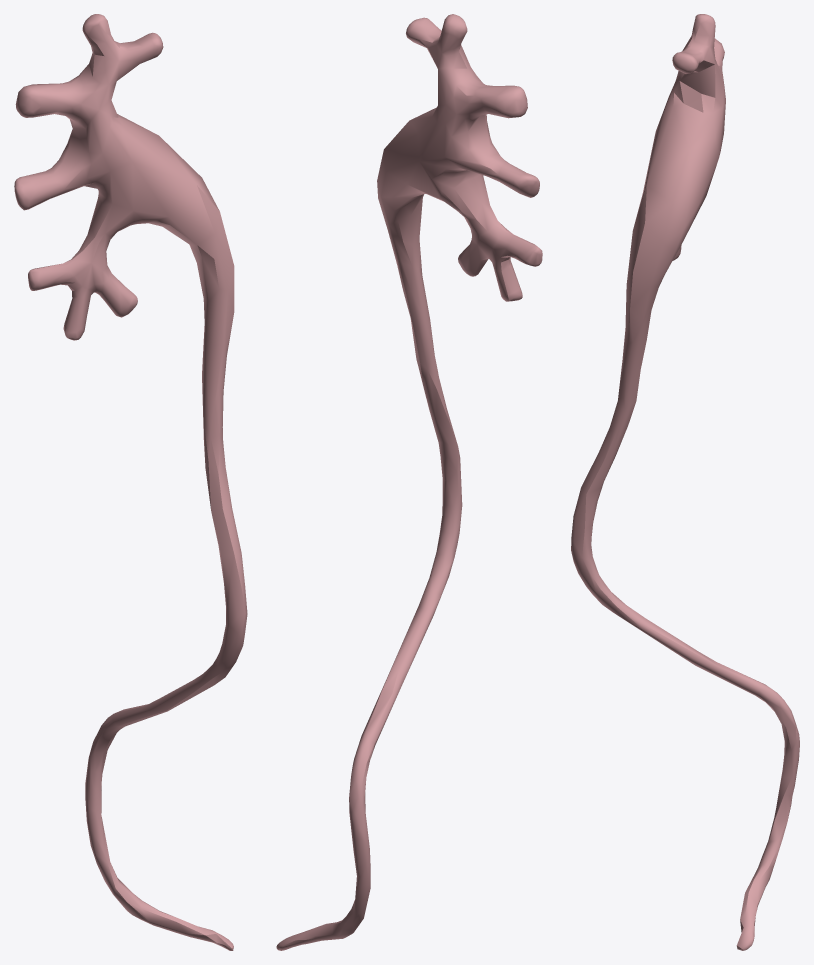
File: fma15571_fj3146.glb
3 renders of one model, left to right at view 1: azimuth 30°, elevation 25°; view 2: azimuth 150°, elevation 25°; view 3: azimuth 270°, elevation 25°, orthographic. The views are drawn at different scales.
Parts seen in each view (by area): view 1: FMA15571_FJ3146; view 2: FMA15571_FJ3146; view 3: FMA15571_FJ3146.
Boxes of the visible parts, box(x1,y1,x2,y2) form: FMA15571_FJ3146: box(14, 14, 247, 950); FMA15571_FJ3146: box(276, 14, 542, 950); FMA15571_FJ3146: box(571, 14, 799, 950).
Bounding box in the file's own units: 0.0634 × 0.2458 × 0.0586.
